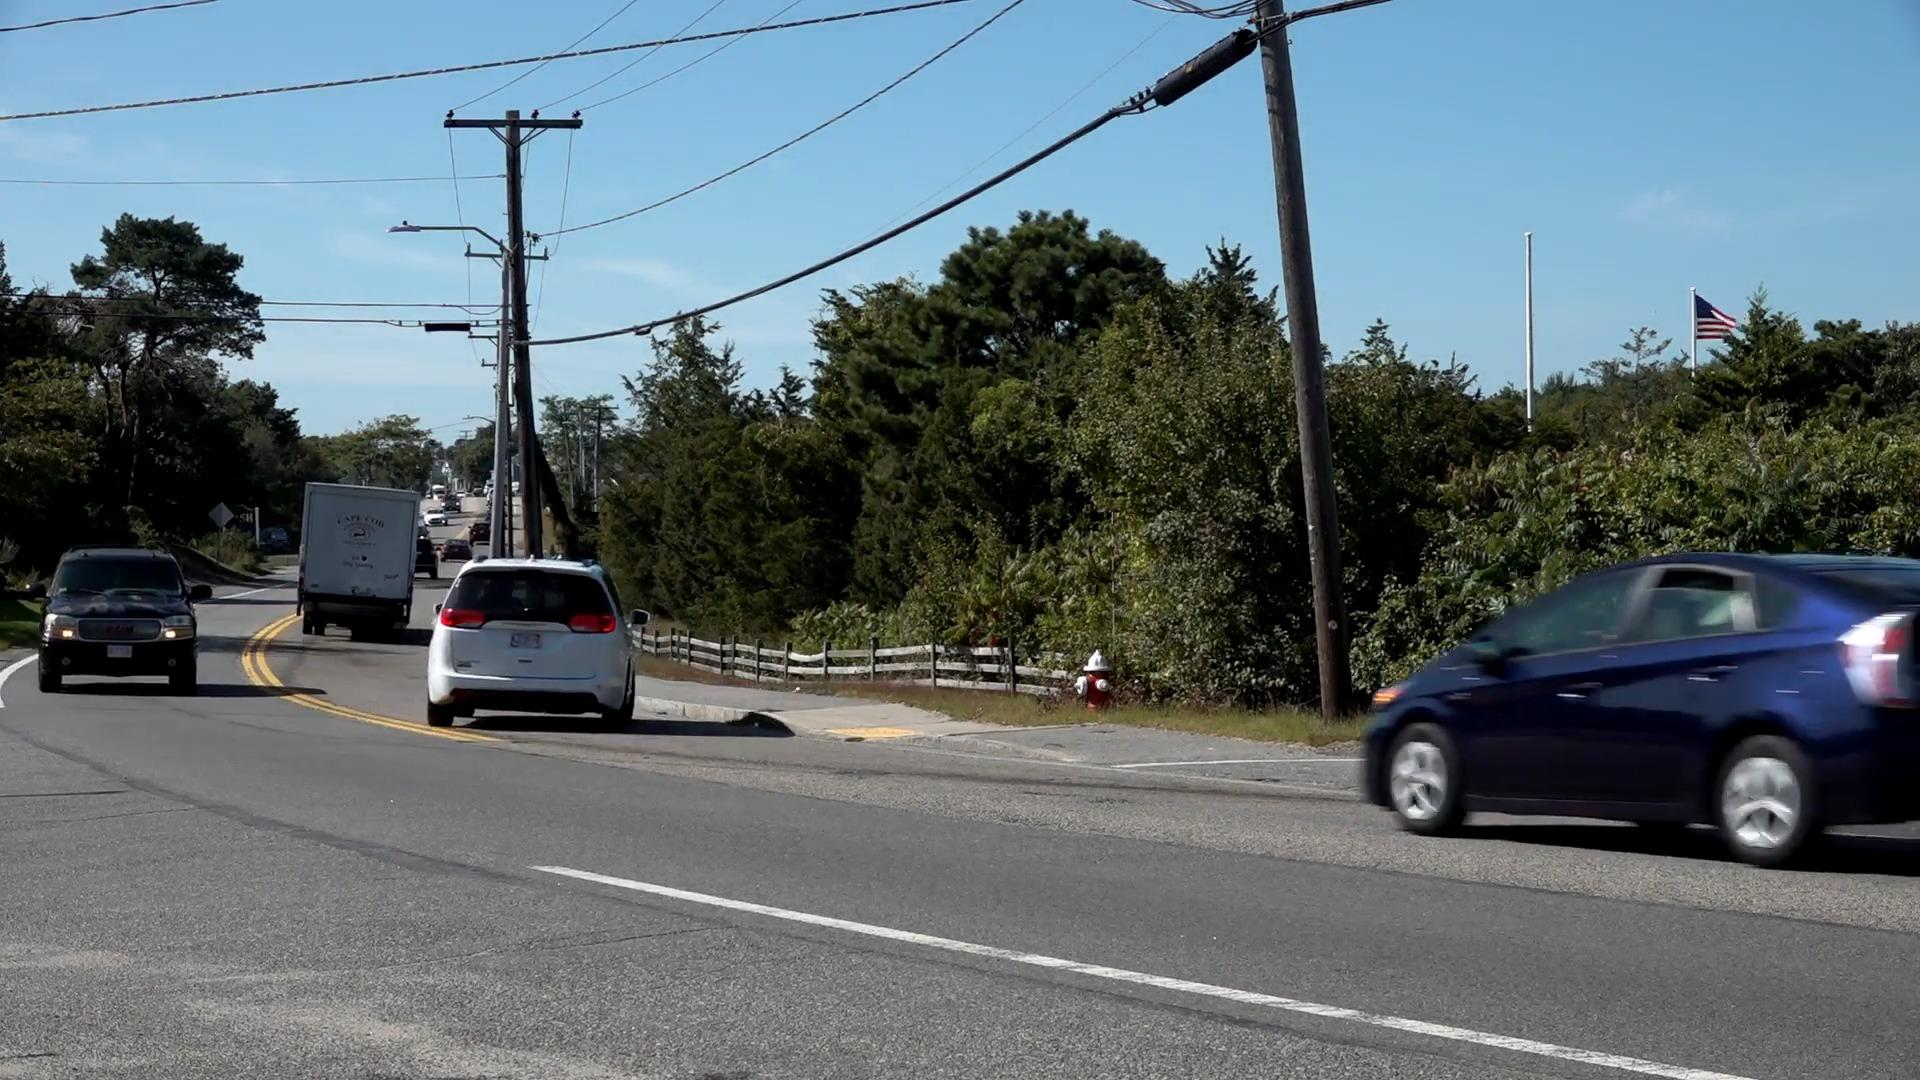minivan: (427, 547, 654, 740)
sedans: (1361, 547, 1920, 869)
suv: (29, 541, 214, 694)
